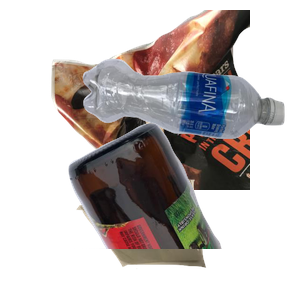glass: (66, 120, 300, 300)
paper: (49, 10, 289, 190)
plastic: (80, 56, 300, 187)
trash: (74, 148, 273, 300)
